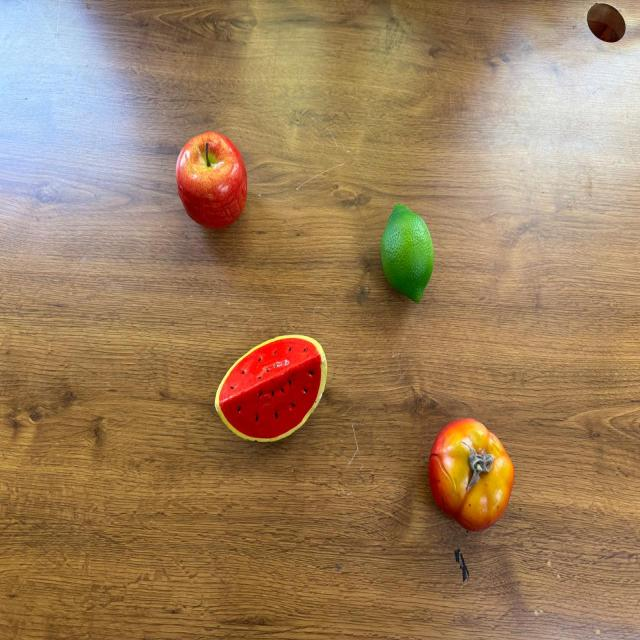apple: (176, 131, 248, 231)
lemon: (381, 203, 436, 305)
tomato: (427, 416, 514, 528)
watermelon: (215, 330, 328, 441)
